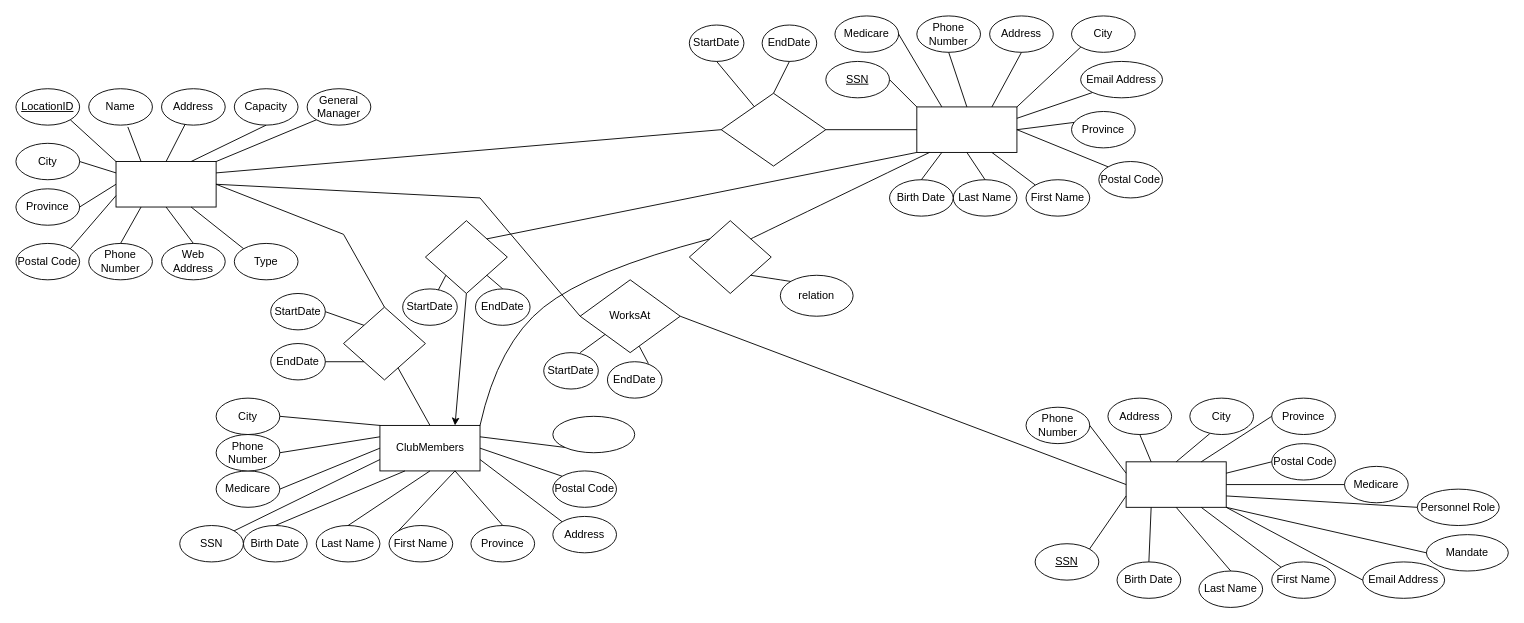
Some shapes in this 1524 by 623 pixel diagram are drawn without their labels. Here are the shapes that lost their labels. From the top down, the centre of each, then its label:
At point (773, 129): "RegisteredIn".
At point (966, 129): "FamilyMembers".
At point (165, 184): "Locations".
At point (466, 256): "Enrolls".
At point (729, 256): "Secondary Member".
At point (384, 343): "MemberOf".
At point (593, 434): "ClubMemberID".
At point (1175, 484): "Personnels".
